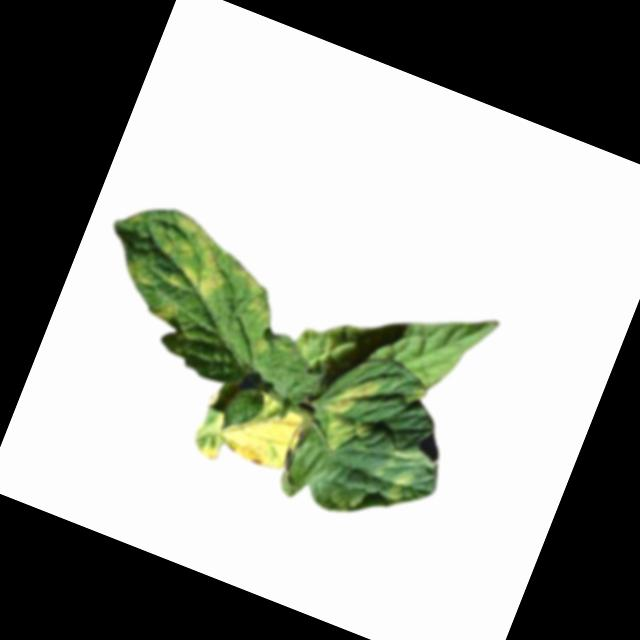Leaf_Mold: (115, 200, 241, 336), (189, 373, 313, 488), (310, 362, 390, 461)
